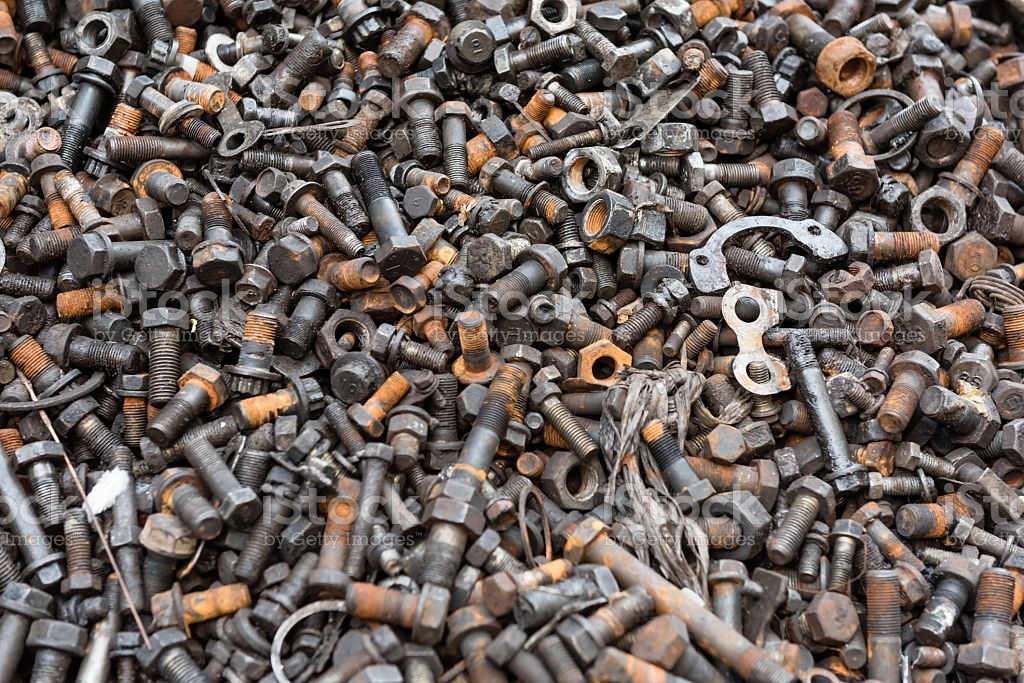metal: (566, 516, 797, 681), (416, 353, 557, 510), (679, 195, 858, 310), (771, 325, 873, 508), (80, 438, 155, 608), (128, 360, 244, 453), (859, 339, 963, 442), (347, 145, 425, 278), (23, 314, 147, 391), (328, 570, 459, 642), (704, 45, 808, 134), (804, 98, 892, 203), (887, 284, 1008, 360), (139, 565, 272, 634), (174, 427, 261, 531), (952, 558, 1024, 681), (401, 491, 482, 600), (630, 412, 719, 510), (120, 301, 199, 408), (846, 559, 911, 683), (55, 390, 143, 479), (916, 376, 1012, 457), (847, 212, 956, 280), (887, 481, 994, 549), (802, 26, 895, 104), (521, 375, 601, 460), (1, 325, 78, 413), (130, 610, 216, 683), (482, 24, 583, 85), (440, 308, 506, 390), (566, 11, 637, 85), (568, 330, 642, 401), (548, 135, 625, 202), (814, 510, 878, 589), (855, 454, 950, 506), (901, 180, 974, 247), (566, 184, 635, 254), (462, 219, 536, 283)
